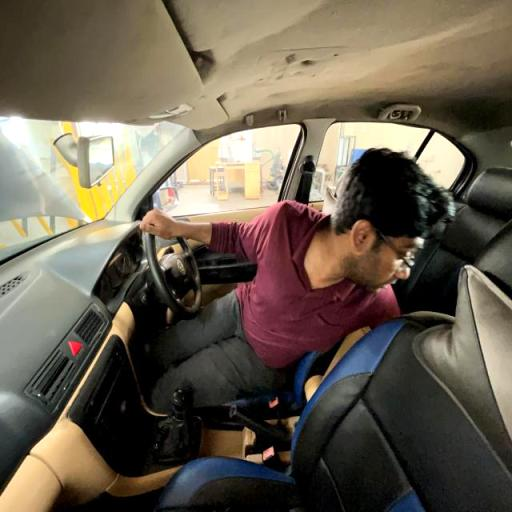Reaching_behind: (134, 136, 453, 388)
